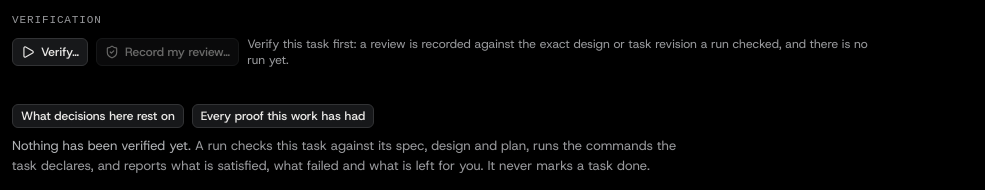
stopping a verification run › shows the run's own line while it winds up, so the wait is never silent
This screenshot has width=985, height=190.
What coordinates should you click on to do the following:
click the button "Verify…"
I would click on:
 (50, 52)
Its box is [12, 38, 88, 66].
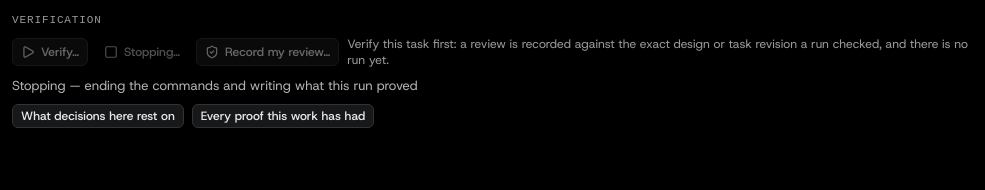
Expected: the message "Stopping — ending the commands and writing what this run proved" is shown, [12, 77, 418, 94]
